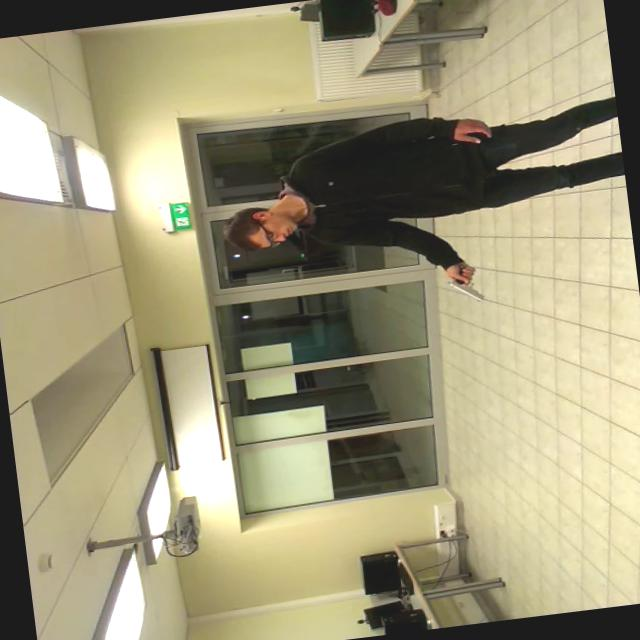handgun: (446, 256, 496, 310)
